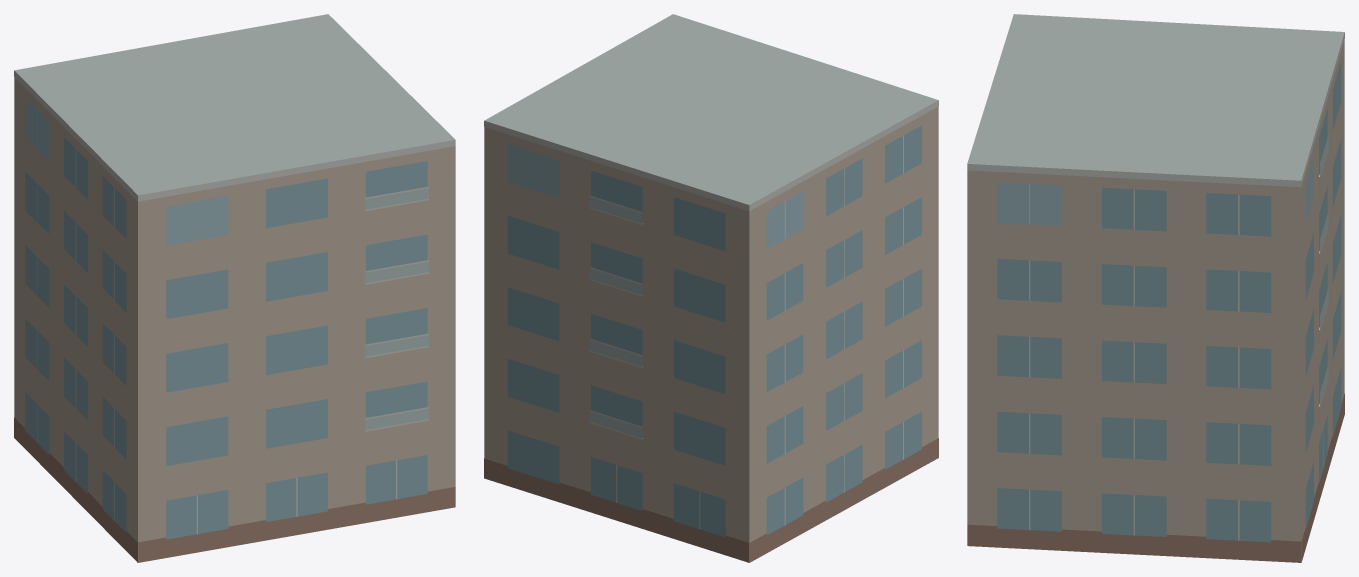
File: survey-upis-32911989.glb
3 renders of one model, left to right at view 1: azimuth 30°, elevation 25°; view 2: azimuth 150°, elevation 25°; view 3: azimuth 270°, elevation 25°, orthographic. The views are drawn at different scales.
Visible parts, largest first — view 1: survey-upis-32911989.tmp; view 2: survey-upis-32911989.tmp; view 3: survey-upis-32911989.tmp.
Part boxes in pixels (x1,y1,x2,y2): survey-upis-32911989.tmp: (14, 14, 455, 562); survey-upis-32911989.tmp: (484, 14, 938, 562); survey-upis-32911989.tmp: (967, 14, 1344, 562).
Size of the model in its own units: 13.39 by 14.3 by 12.82.
